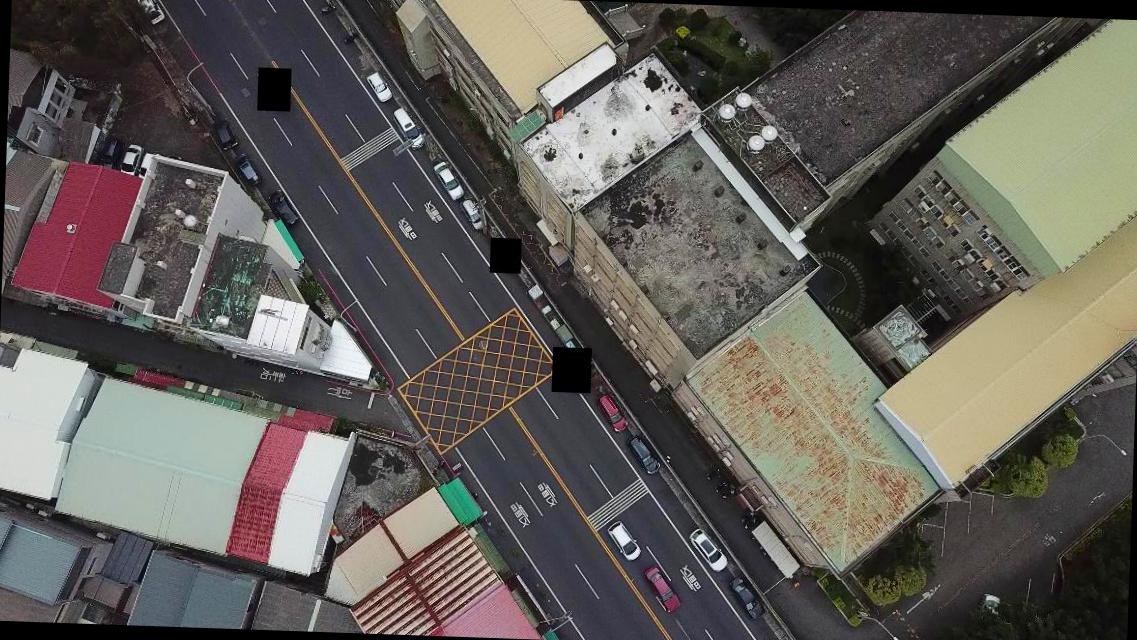vehicle: (640, 564, 684, 615), (686, 526, 731, 572), (728, 576, 766, 623), (605, 518, 644, 562), (627, 432, 664, 477), (264, 188, 304, 228), (430, 158, 465, 203), (390, 107, 426, 150), (596, 392, 630, 433), (230, 151, 264, 188), (460, 196, 486, 233), (119, 139, 144, 177), (131, 0, 166, 27), (210, 119, 238, 152), (366, 70, 392, 104), (97, 136, 118, 168)
